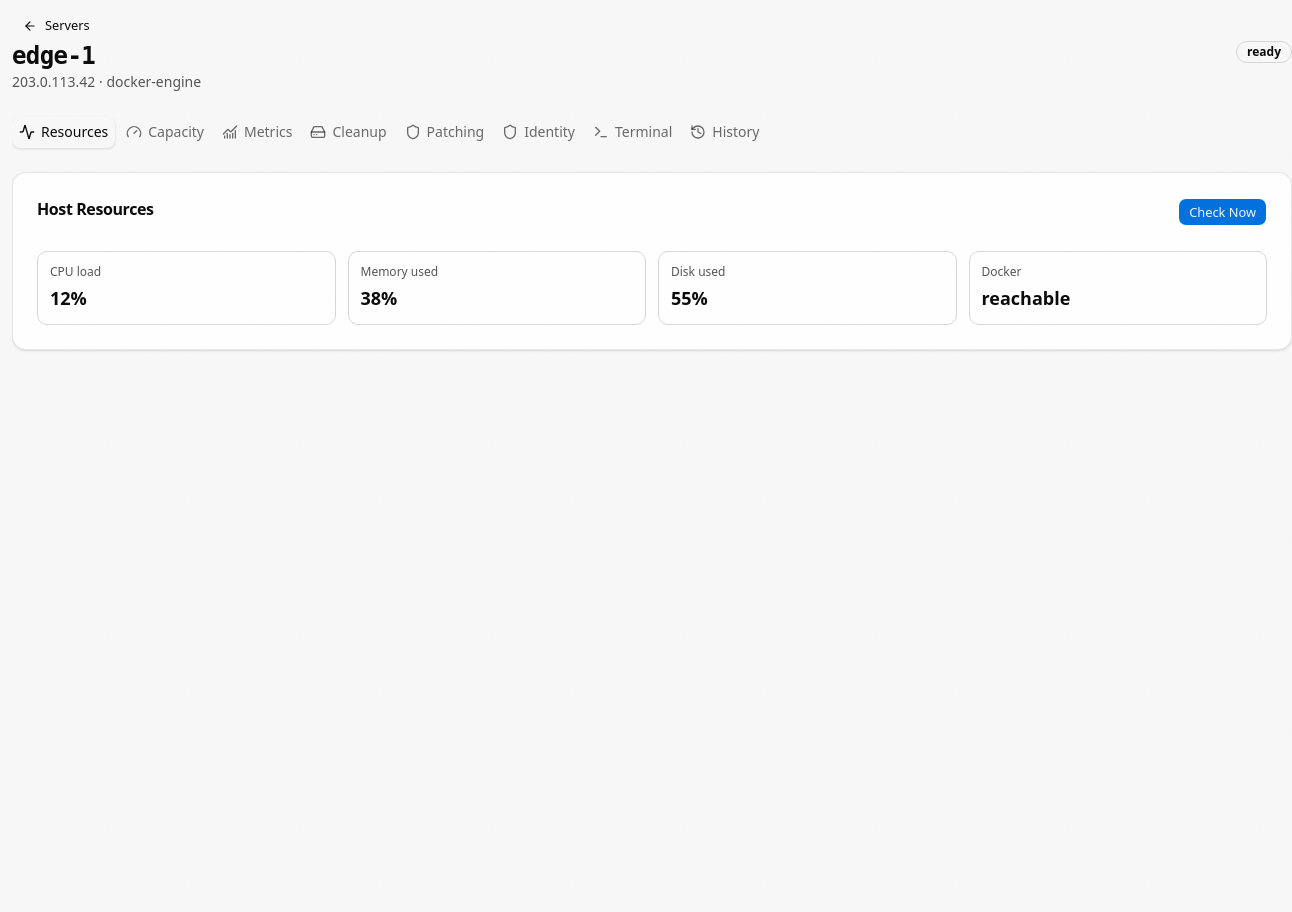
ServerDetailPage › saves changed server capacity with the expected payload
This screenshot has width=1292, height=912.
Click the tab with test id "server-detail-capacity-tab-srv_1": x=165, y=132 [119, 116, 211, 148]
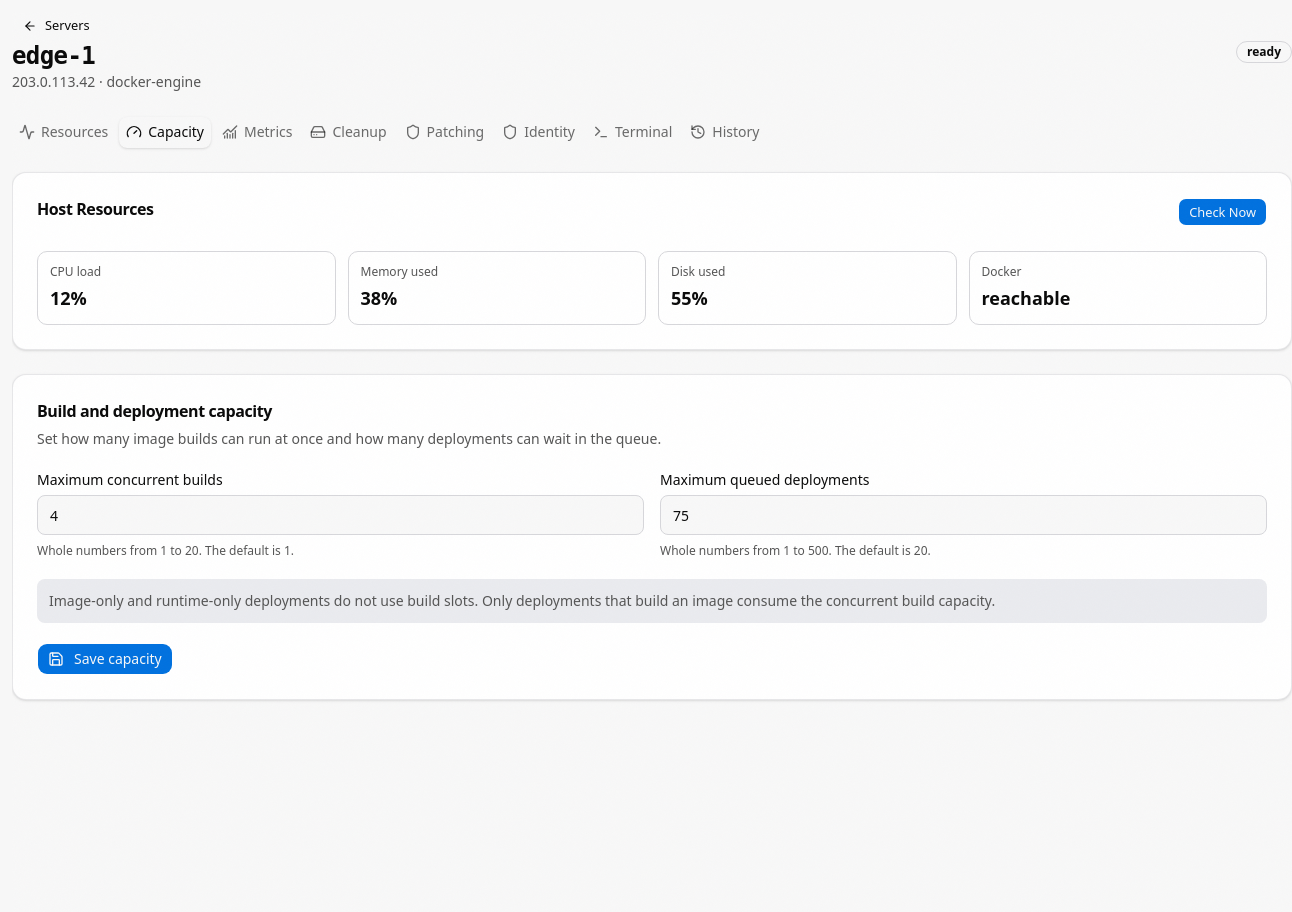
Replace the text in the number field with test id "server-capacity-builds-srv_1" with "6": x=340, y=515 [37, 495, 644, 535]
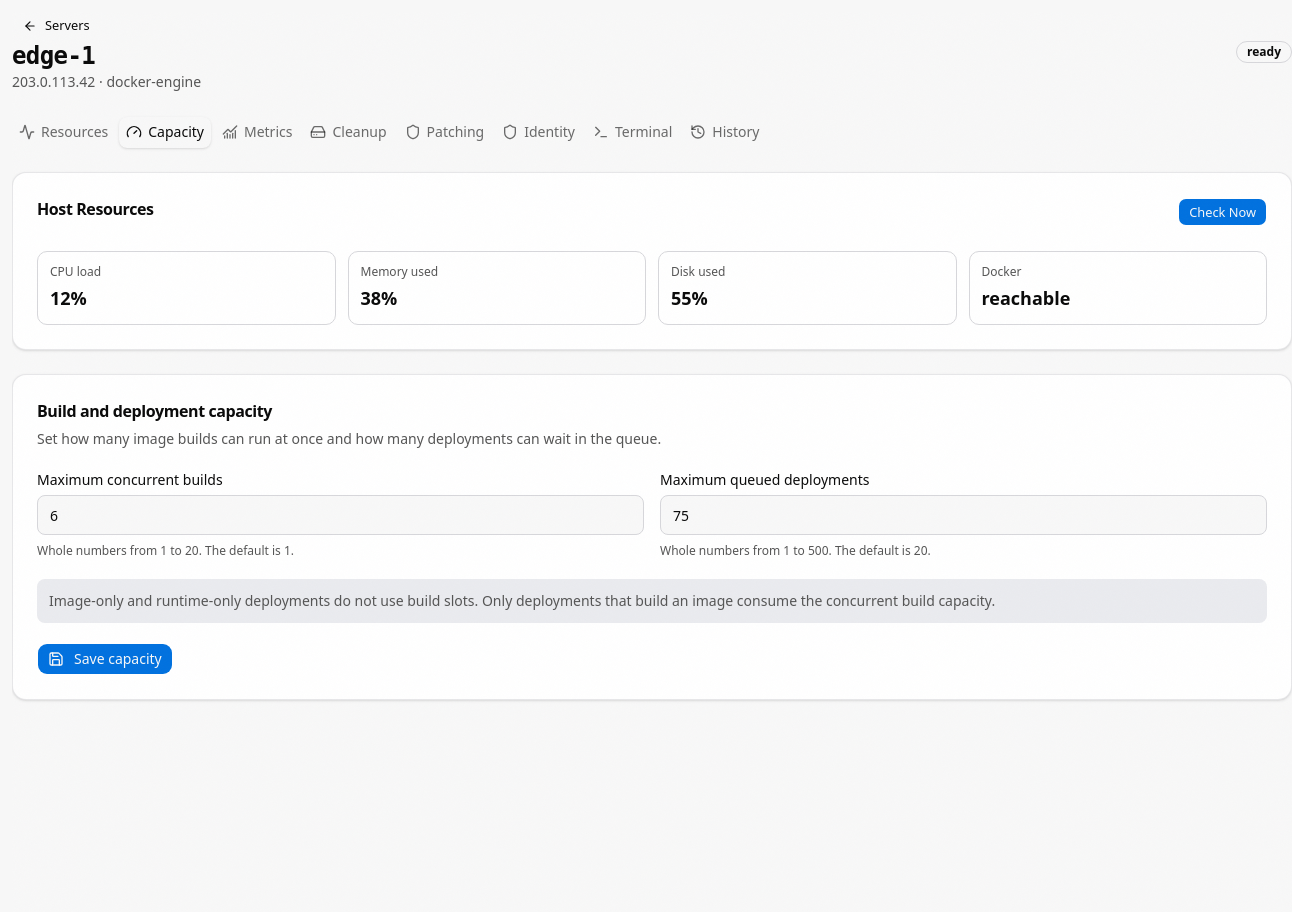
Replace the text in the number field with test id "server-capacity-queued-srv_1" with "120": x=964, y=515 [660, 495, 1267, 535]
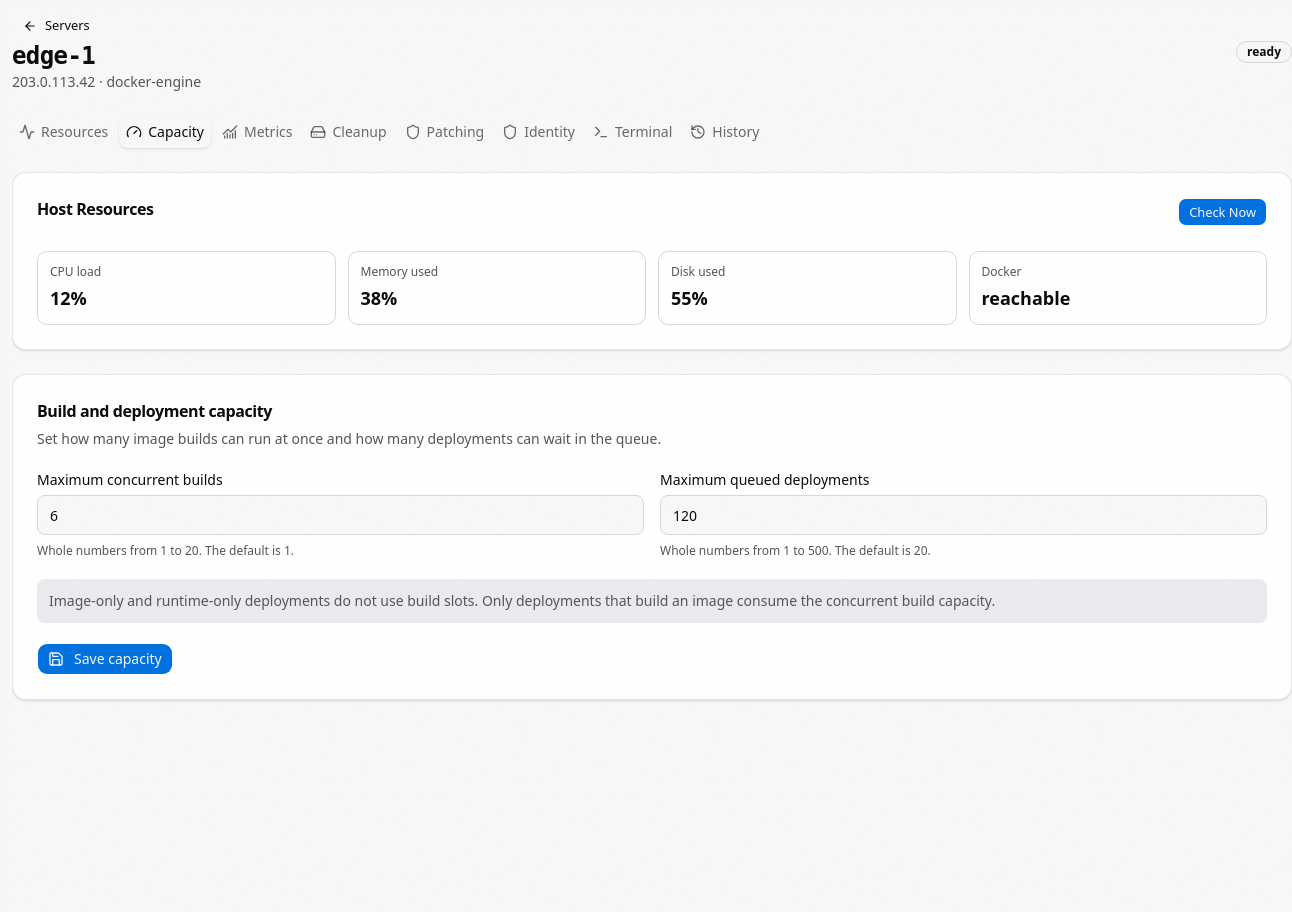
Click the button with test id "server-capacity-save-srv_1": x=105, y=659 [37, 643, 173, 675]
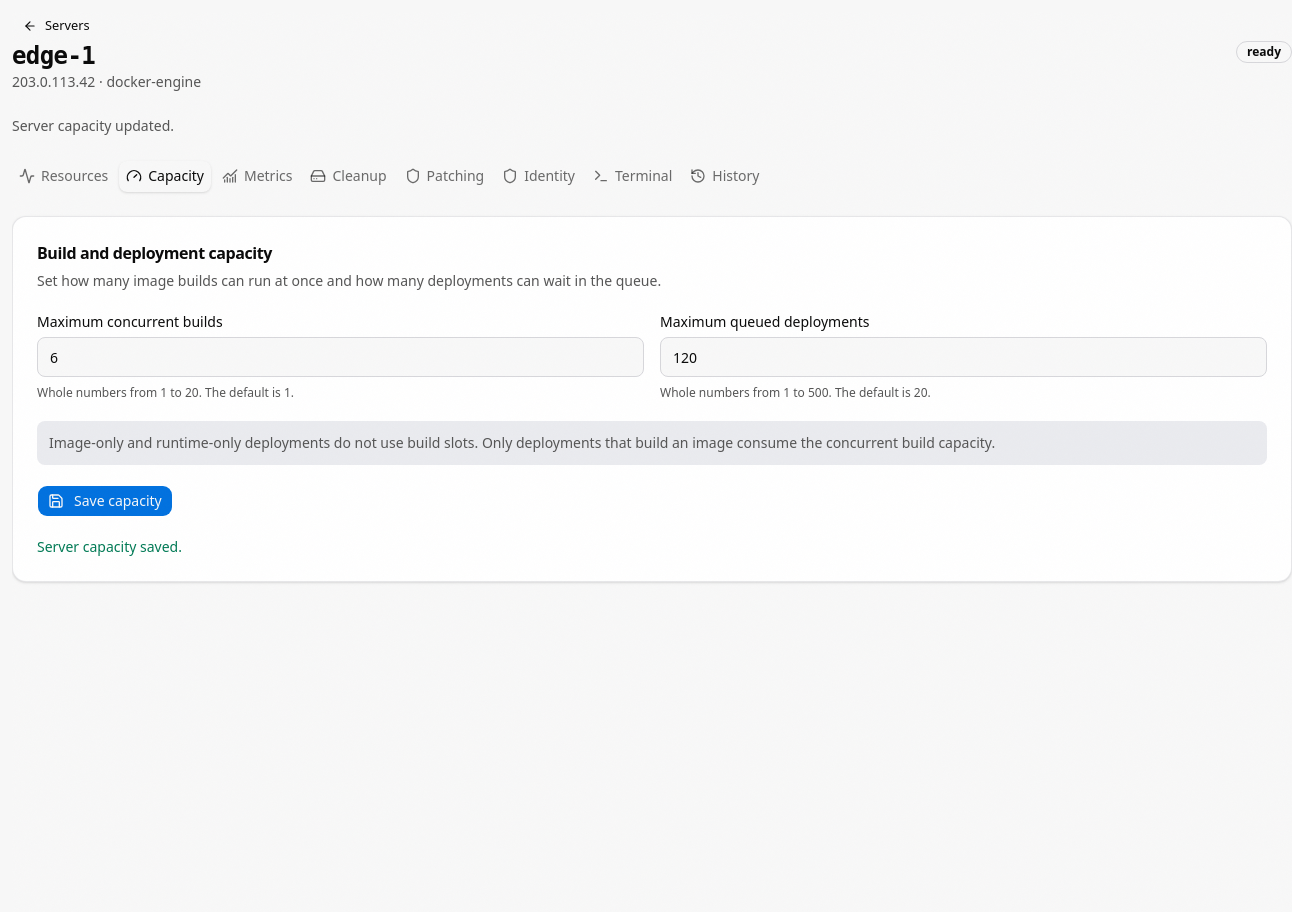
Now the message with test id "server-capacity-feedback-srv_1" reads "Server capacity saved.", box [37, 537, 182, 556]
